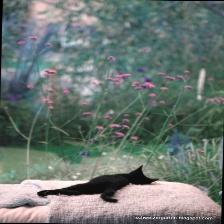kedo: (37, 165, 159, 204)
